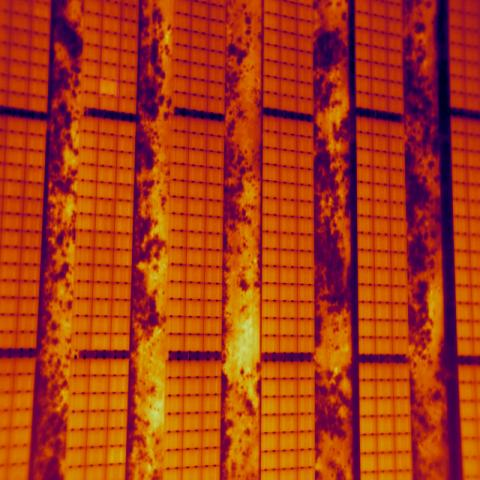fault: (100, 78, 120, 97)
